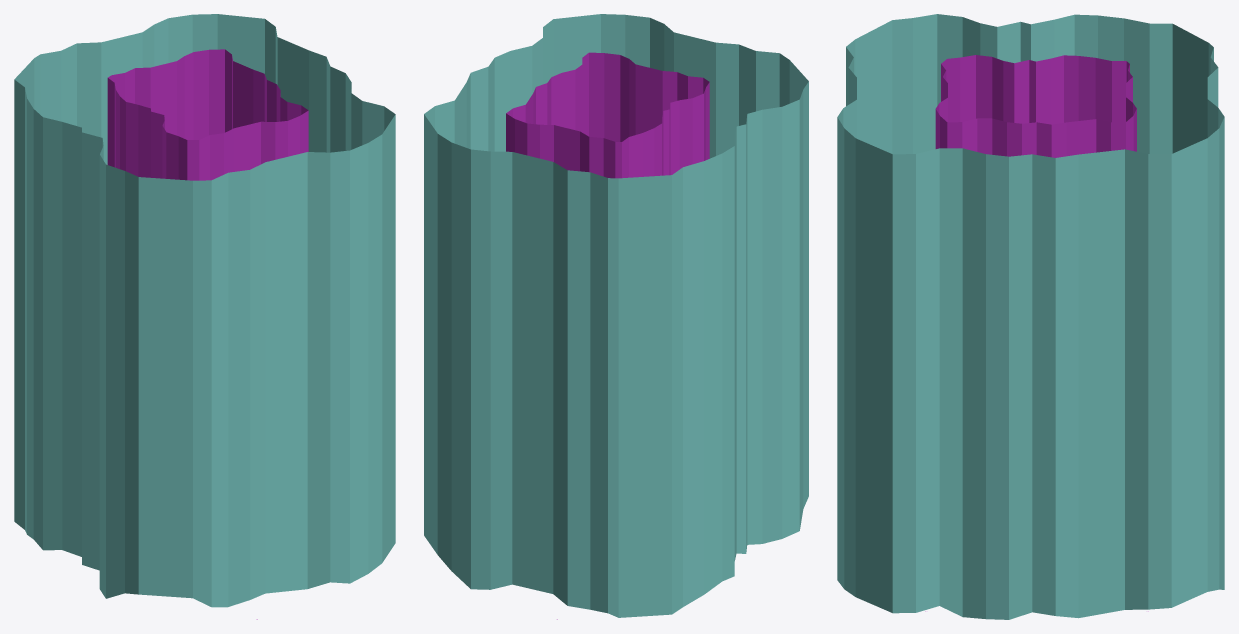
Rendered from level_collision_playercollide.fbx.
The picture shows the model from 3 angles, left to right: view 1: azimuth 30°, elevation 25°; view 2: azimuth 150°, elevation 25°; view 3: azimuth 270°, elevation 25°; orthographic projection. The views are drawn at different scales.
Parts seen in each view (by area): view 1: level_collision_playercollide; view 2: level_collision_playercollide; view 3: level_collision_playercollide.
Part boxes in pixels (bbox=[...]): level_collision_playercollide: bbox=[14, 14, 395, 619]; level_collision_playercollide: bbox=[424, 14, 808, 619]; level_collision_playercollide: bbox=[837, 14, 1224, 619].
Size of the model in its own units: 2230150 by 3761519 by 2533591.
